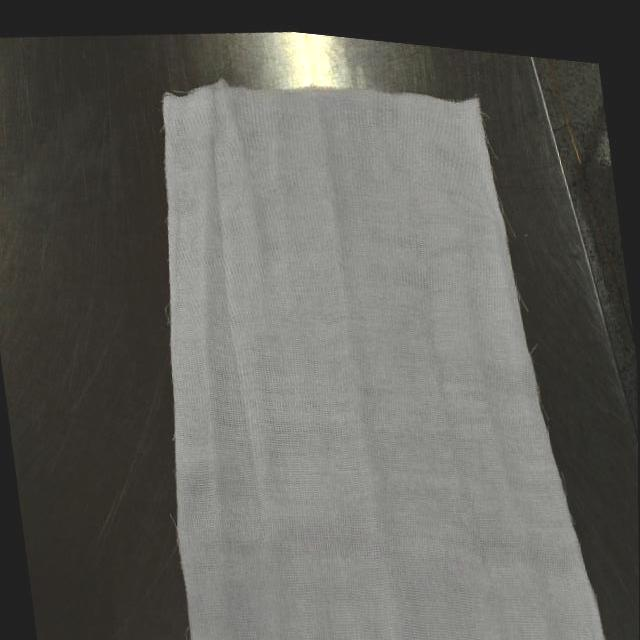General: (159, 76, 606, 639)
Sharps: (523, 55, 636, 440), (559, 117, 587, 168)
